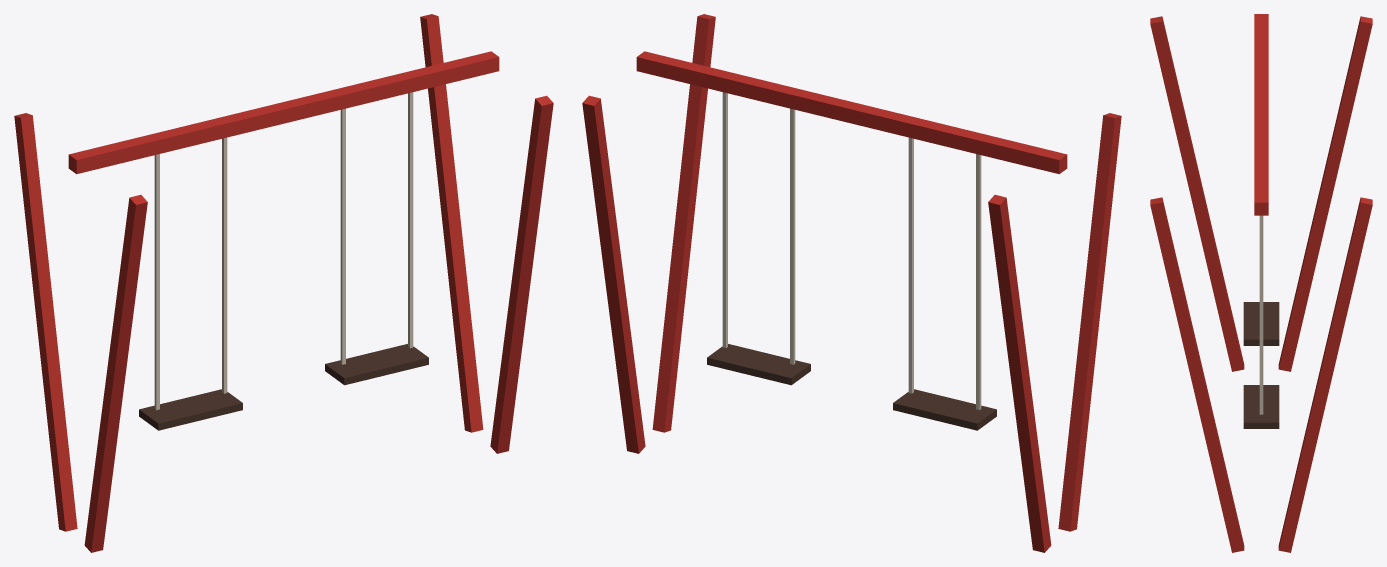
The model's file is nguyens_swing_set.glb.
3 views of the same model, side by side, from view 1: azimuth 30°, elevation 25°; view 2: azimuth 150°, elevation 25°; view 3: azimuth 270°, elevation 25° (orthographic). The views are drawn at different scales.
Parts seen in each view (by area): view 1: Box5, Box1, Box3, Box2, Box4, Box8, Box11, Box7, Box9, Box10, Box6; view 2: Box5, Box2, Box4, Box1, Box3, Box8, Box11, Box7, Box9, Box10, Box6; view 3: Box1, Box2, Box3, Box4, Box5, Box11, Box8, Box10.
Boxes of the visible parts, x1,y1,x2,y2 form: Box5: (68, 51, 499, 174); Box1: (14, 113, 77, 531); Box3: (420, 14, 483, 432); Box2: (84, 194, 147, 552); Box4: (490, 95, 553, 453); Box8: (139, 389, 242, 430); Box11: (325, 344, 428, 385); Box7: (222, 137, 227, 393); Box9: (340, 108, 345, 364); Box10: (408, 92, 413, 348); Box6: (154, 154, 159, 410); Box5: (636, 51, 1067, 174); Box2: (1058, 113, 1121, 531); Box4: (652, 14, 715, 432); Box1: (988, 194, 1051, 552); Box3: (582, 95, 645, 453); Box8: (893, 389, 996, 430); Box11: (707, 344, 810, 385); Box7: (908, 137, 913, 393); Box9: (790, 108, 795, 364); Box10: (722, 92, 727, 348); Box6: (976, 154, 981, 410); Box1: (1278, 16, 1372, 371); Box2: (1150, 16, 1244, 371); Box3: (1278, 197, 1372, 552); Box4: (1150, 197, 1244, 552); Box5: (1254, 14, 1268, 215); Box11: (1243, 385, 1279, 428); Box8: (1243, 302, 1279, 345); Box10: (1259, 215, 1263, 414).
Size of the model in its own units: 2.5 by 2.17 by 1.25.
